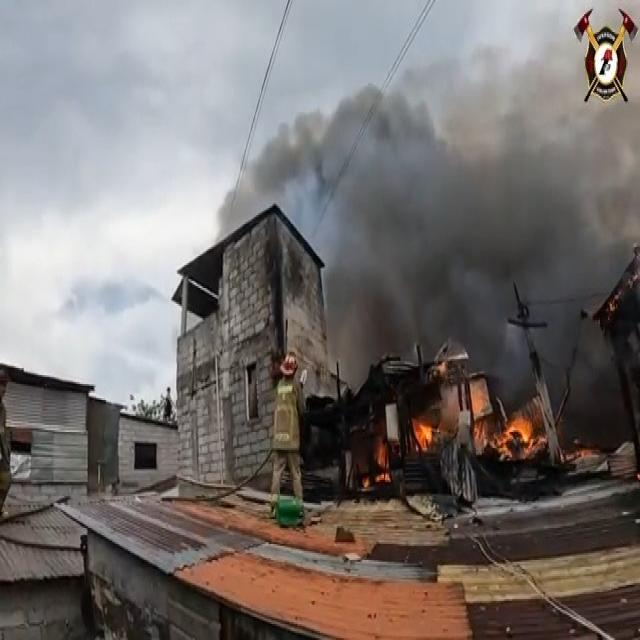Fire: (475, 404, 541, 460), (361, 432, 391, 489), (404, 410, 444, 452)
Smoke: (218, 73, 640, 455)
